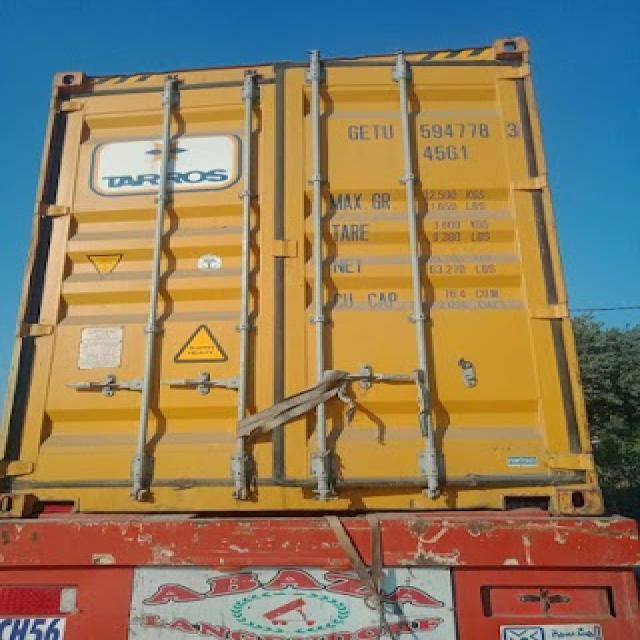ISO: (424, 144, 469, 161)
container_number: (346, 122, 508, 142)
